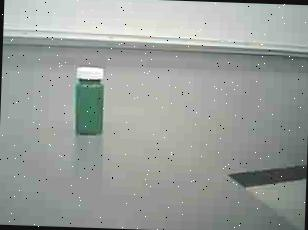Bottle C: (63, 60, 114, 137)
